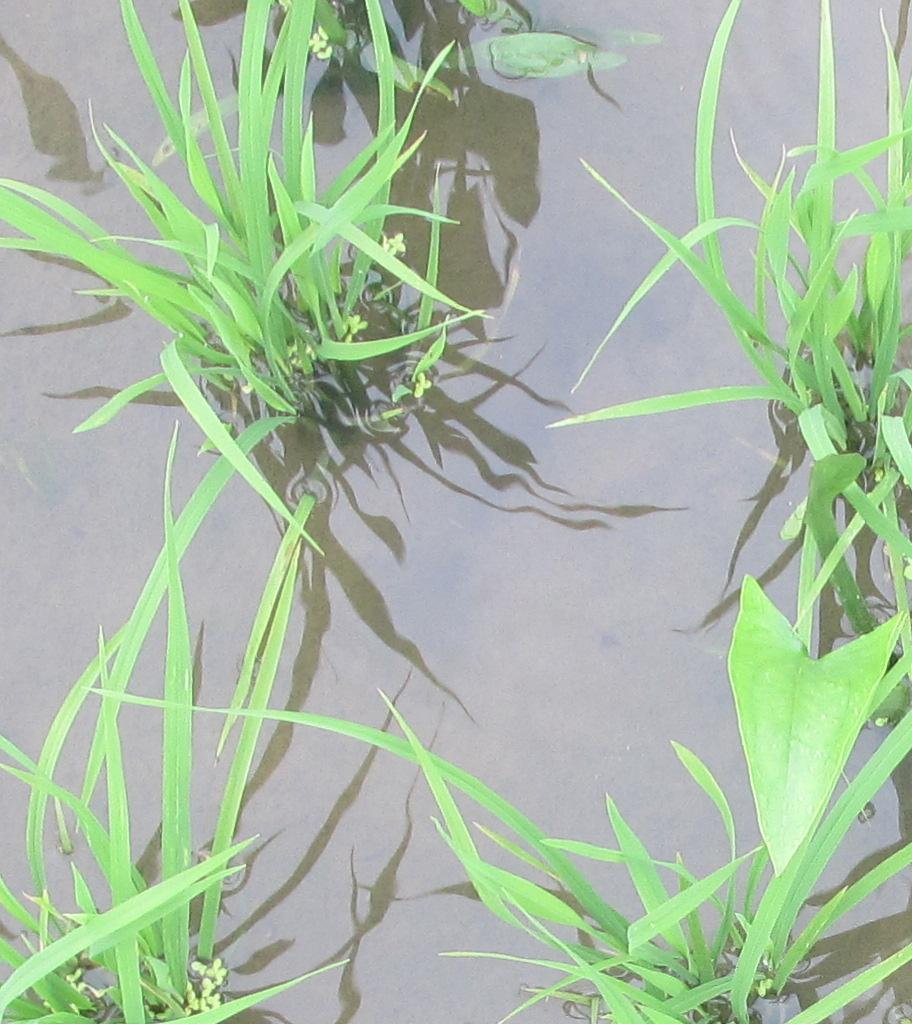Weed: (725, 569, 897, 874)
